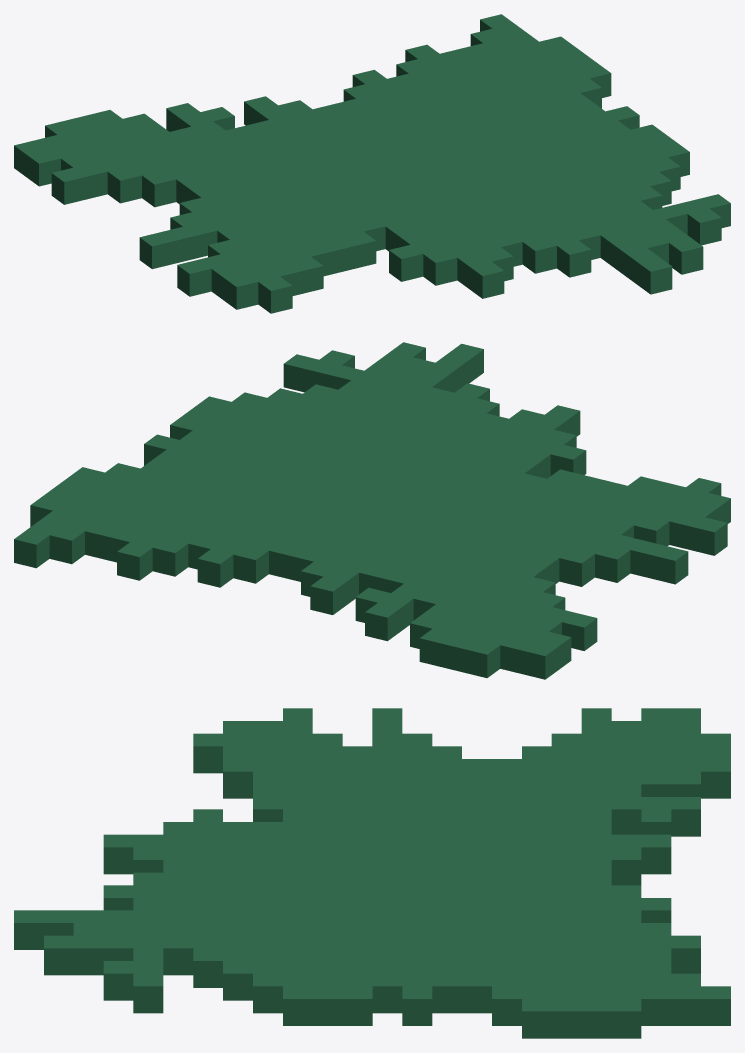
The model's file is moss2.obj.
3 views of the same model, one above another, from view 1: azimuth 30°, elevation 25°; view 2: azimuth 150°, elevation 25°; view 3: azimuth 270°, elevation 25° (orthographic). The views are drawn at different scales.
Size of the model in its own units: 2.4 by 0.1 by 2.4.
1 material, 1 textured.
